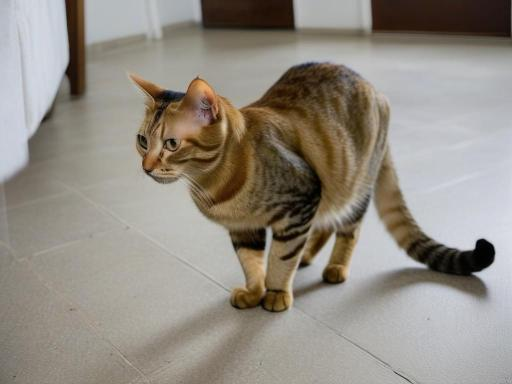cat_standing: (128, 62, 494, 311)
